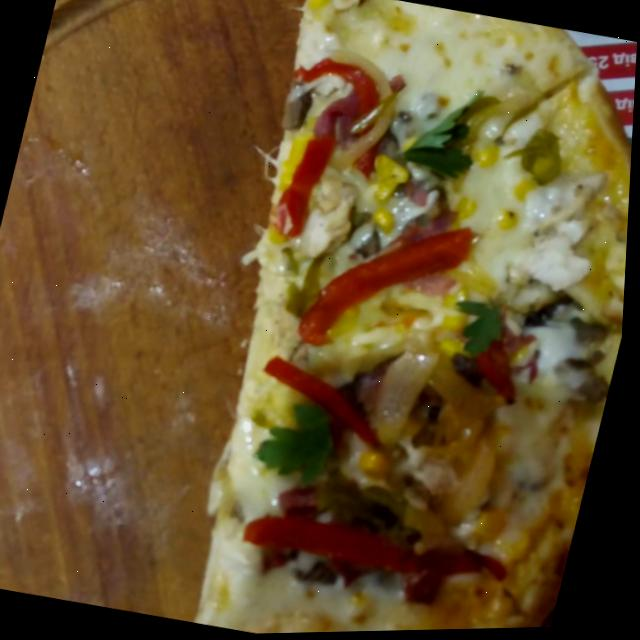mushrooms: (521, 289, 621, 358), (542, 346, 621, 414), (293, 549, 351, 597), (276, 89, 320, 143), (375, 126, 409, 166), (354, 225, 387, 265)
pizza: (155, 0, 640, 637)
